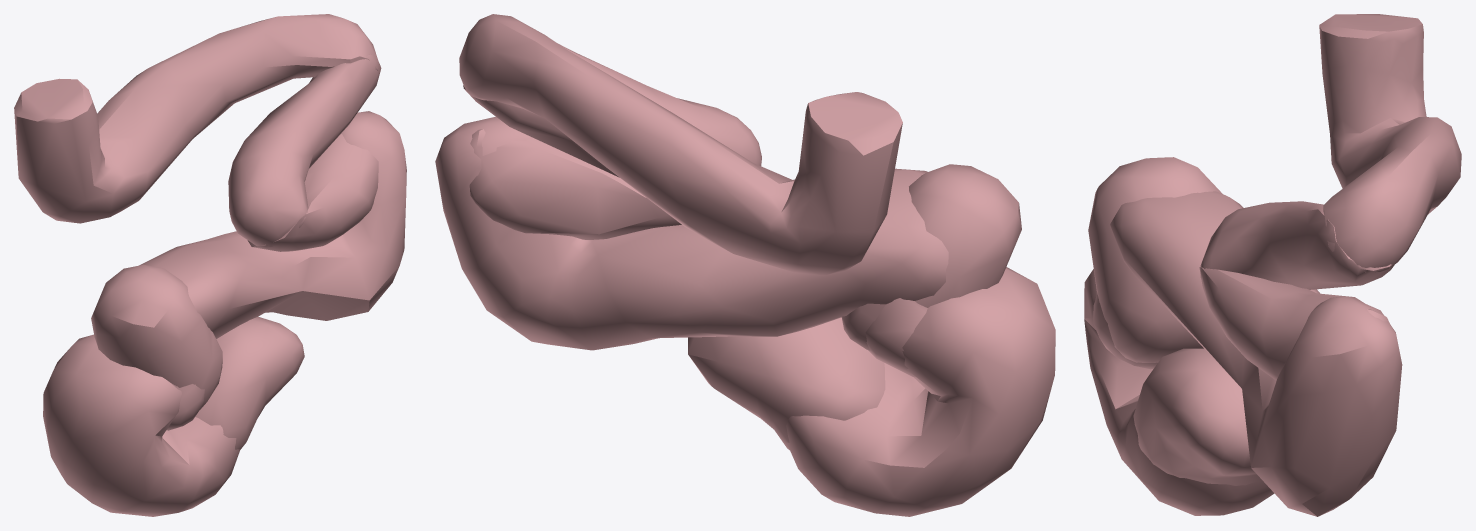
File: fma16981_cx28.glb
3 renders of one model, left to right at view 1: azimuth 30°, elevation 25°; view 2: azimuth 150°, elevation 25°; view 3: azimuth 270°, elevation 25°, orthographic. The views are drawn at different scales.
Visible parts, largest first — view 1: FMA16981_CX28; view 2: FMA16981_CX28; view 3: FMA16981_CX28.
Part boxes in pixels (x1,y1,x2,y2): FMA16981_CX28: [14, 14, 406, 516]; FMA16981_CX28: [435, 14, 1055, 516]; FMA16981_CX28: [1084, 14, 1461, 516].
Size of the model in its own units: 0.0906 by 0.0799 by 0.0584.
